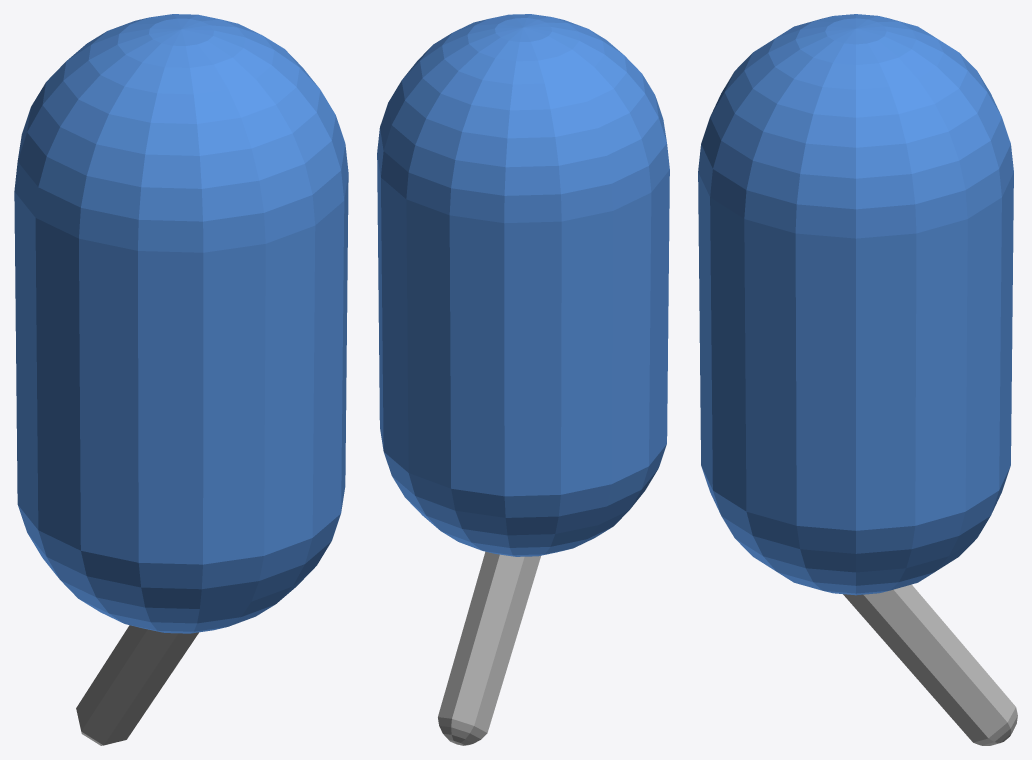
File: waterbottle.fbx
3 views of the same model, side by side, from view 1: azimuth 30°, elevation 25°; view 2: azimuth 150°, elevation 25°; view 3: azimuth 270°, elevation 25° (orthographic). The views are drawn at different scales.
Parts seen in each view (by area): view 1: Sphere; view 2: Sphere; view 3: Sphere.
Part boxes in pixels (x1,y1,x2,y2): Sphere: [14, 14, 348, 745]; Sphere: [377, 14, 669, 745]; Sphere: [698, 14, 1017, 745].
Bounding box in the file's own units: 118 × 296 × 120.
